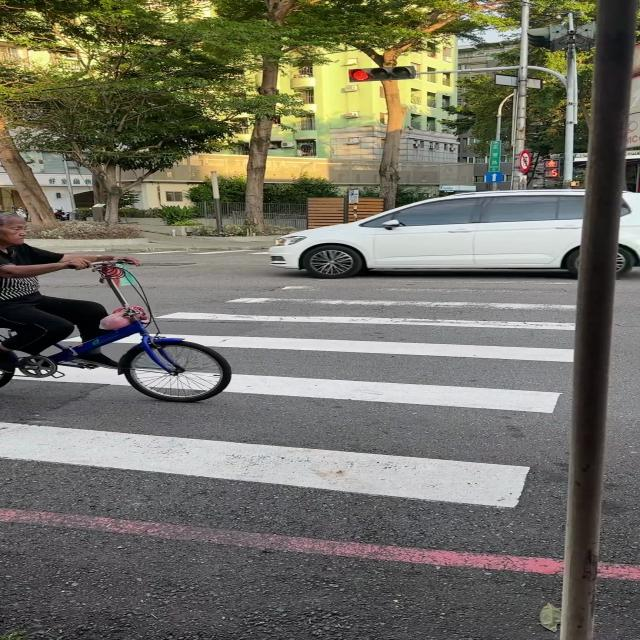car: (267, 190, 582, 279), (618, 191, 640, 271)
crosswalk: (0, 279, 578, 511)
